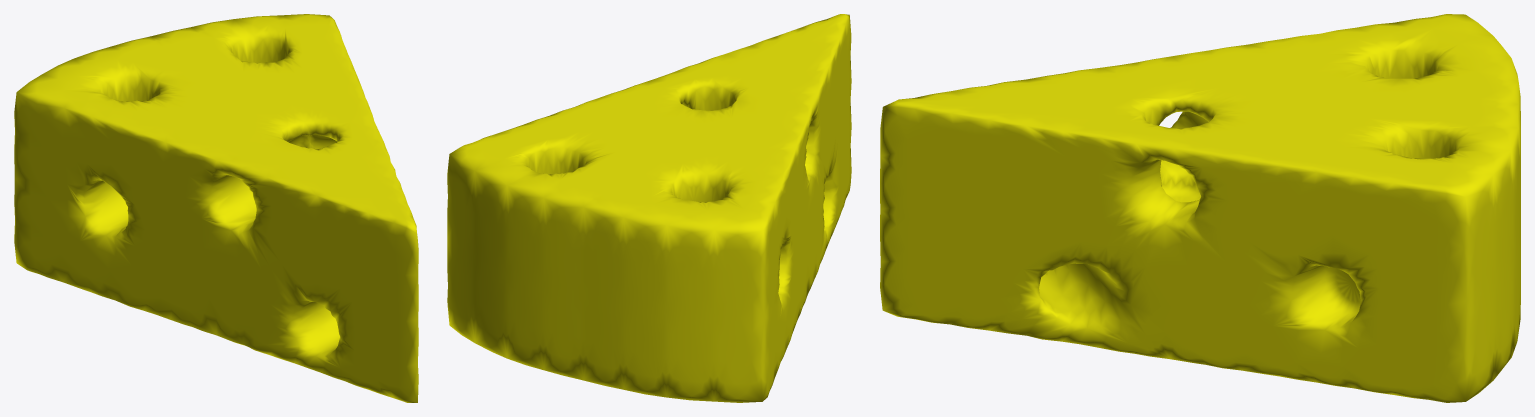
File: Cheese.fbx
3 renders of one model, left to right at view 1: azimuth 30°, elevation 25°; view 2: azimuth 150°, elevation 25°; view 3: azimuth 270°, elevation 25°, orthographic. The views are drawn at different scales.
Parts seen in each view (by area): view 1: polySurface2; view 2: polySurface2; view 3: polySurface2.
Part boxes in pixels (<box>): polySurface2: <box>14,14,418,402</box>; polySurface2: <box>447,14,851,402</box>; polySurface2: <box>880,14,1520,402</box>.
Bounding box in the file's own units: 20.99 × 11.27 × 30.7.
